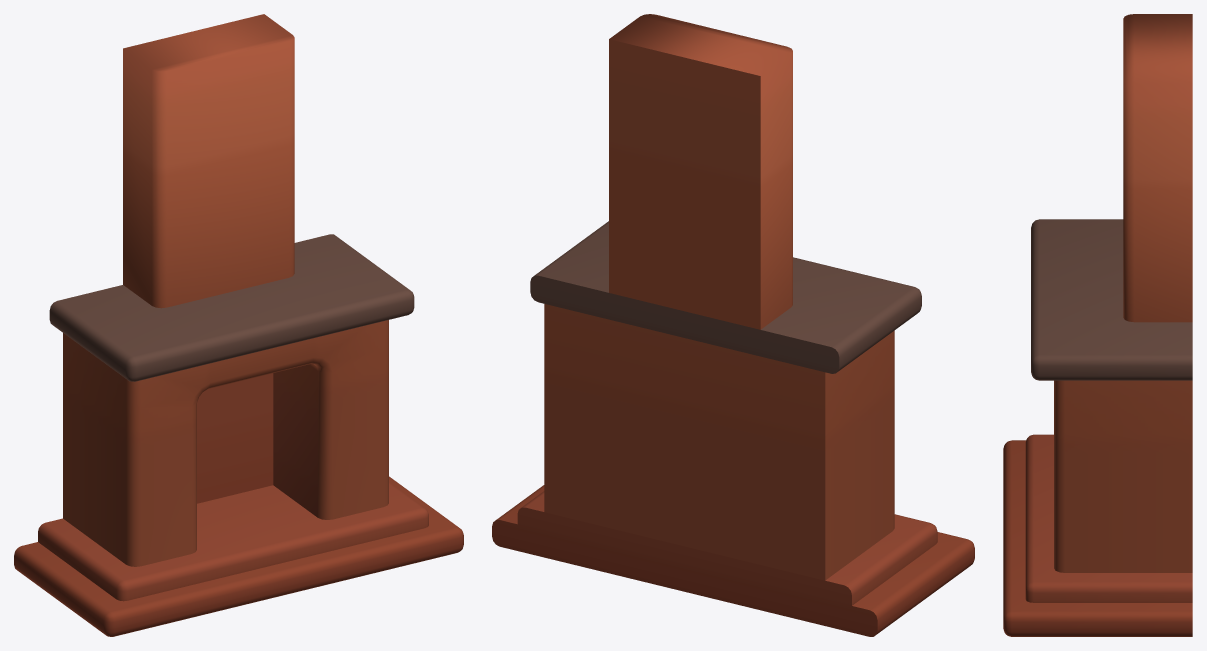
Rendered from Fireplace_07.glb.
3 views of the same model, side by side, from view 1: azimuth 30°, elevation 25°; view 2: azimuth 150°, elevation 25°; view 3: azimuth 270°, elevation 25° (orthographic). The views are drawn at different scales.
Parts seen in each view (by area): view 1: Fireplace_07; view 2: Fireplace_07; view 3: Fireplace_07.
Boxes of the visible parts, x1,y1,x2,y2 form: Fireplace_07: (14, 14, 463, 636); Fireplace_07: (492, 14, 974, 636); Fireplace_07: (1003, 14, 1192, 636).
Bounding box in the file's own units: 1.51 × 2 × 0.6825.
1 material, 1 textured.
